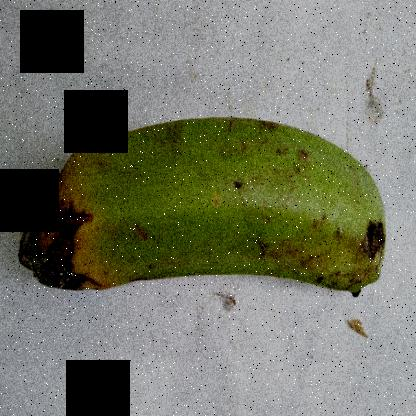rotten: (0, 99, 126, 315)
unripe: (94, 110, 394, 295)
